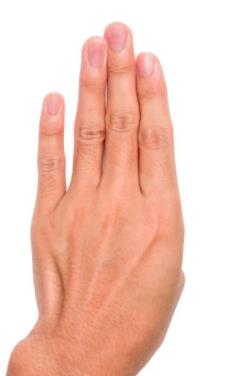right: (25, 9, 191, 359)
